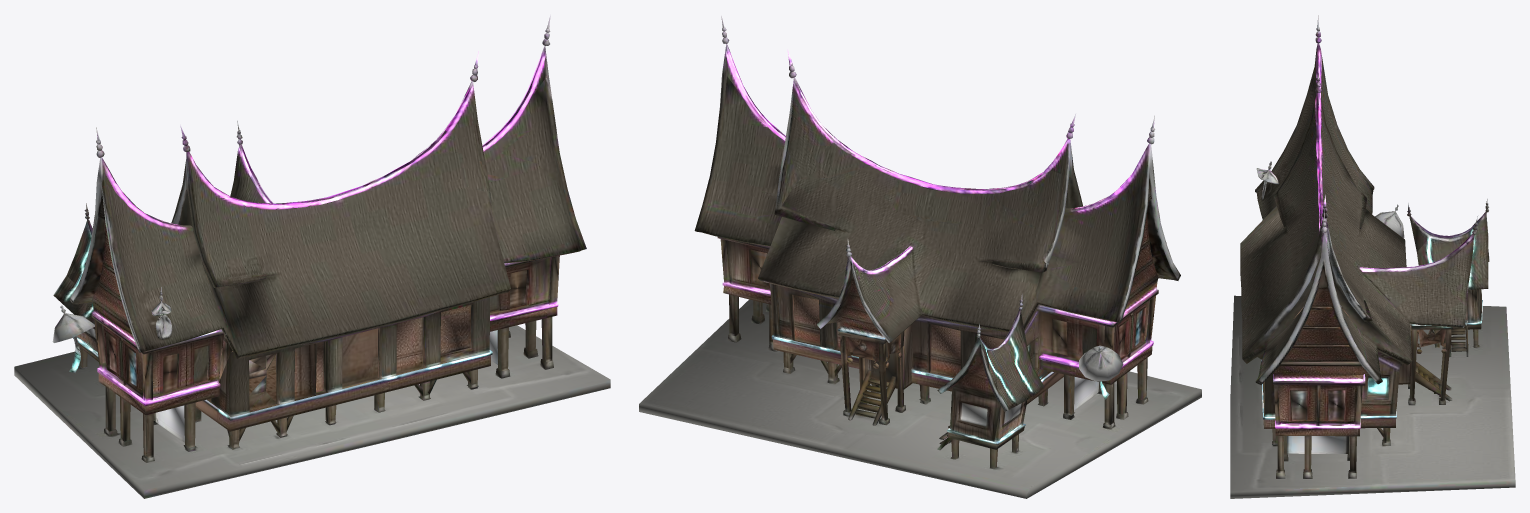
The model's file is minang_rumah_gadang.glb.
3 views of the same model, side by side, from view 1: azimuth 30°, elevation 25°; view 2: azimuth 150°, elevation 25°; view 3: azimuth 270°, elevation 25° (orthographic). The views are drawn at different scales.
Visible parts, largest first — view 1: Body, Glow; view 2: Body, Glow; view 3: Body, Glow.
Part boxes in pixels (x1,y1,x2,y2): Body: (14, 15, 610, 498); Glow: (53, 48, 558, 420); Body: (639, 16, 1201, 498); Glow: (722, 44, 1157, 444); Body: (1230, 15, 1515, 498); Glow: (1261, 36, 1482, 428).
Size of the model in its own units: 12 by 8.34 by 7.4.
Materials: 2 (2 with a texture image).
